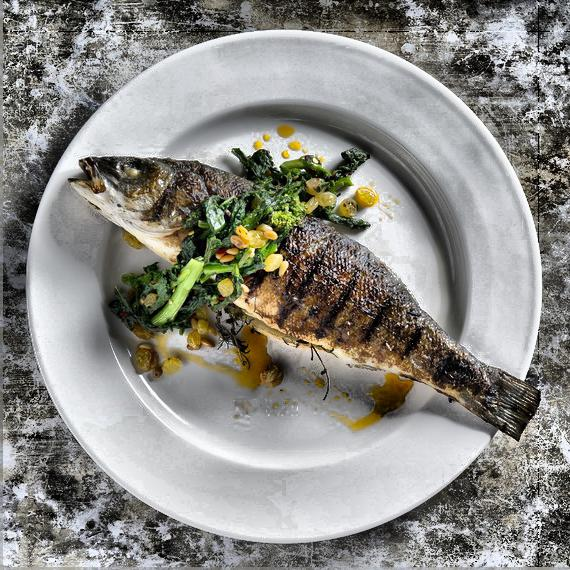fish: (39, 119, 519, 471)
